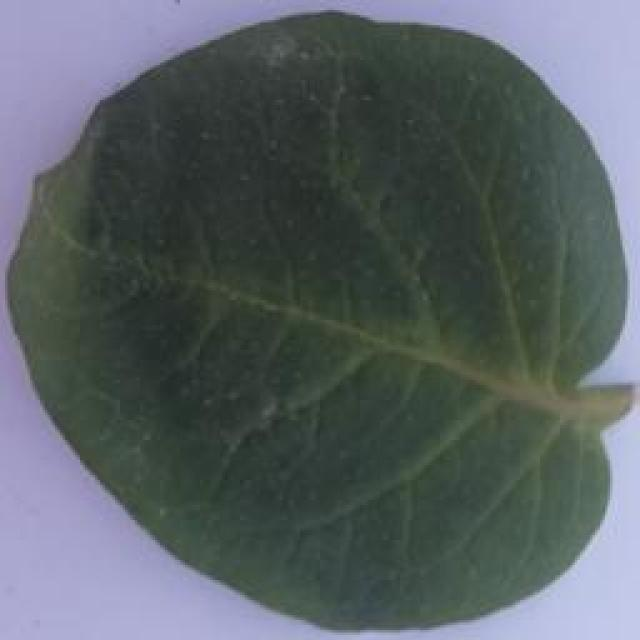Potato_Healthy: (9, 10, 629, 630)
